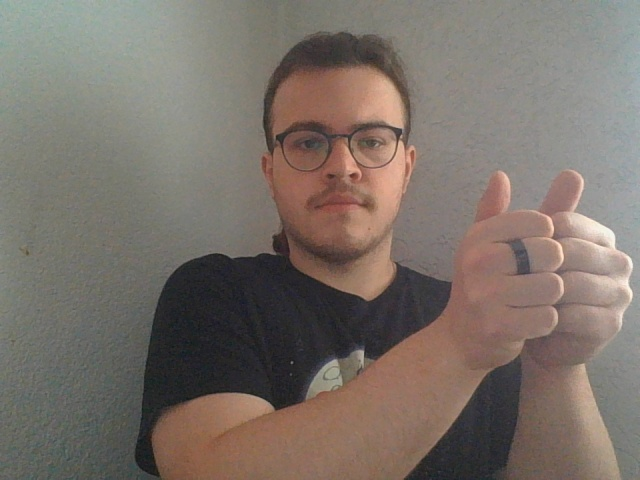Agree: (438, 167, 635, 372)
